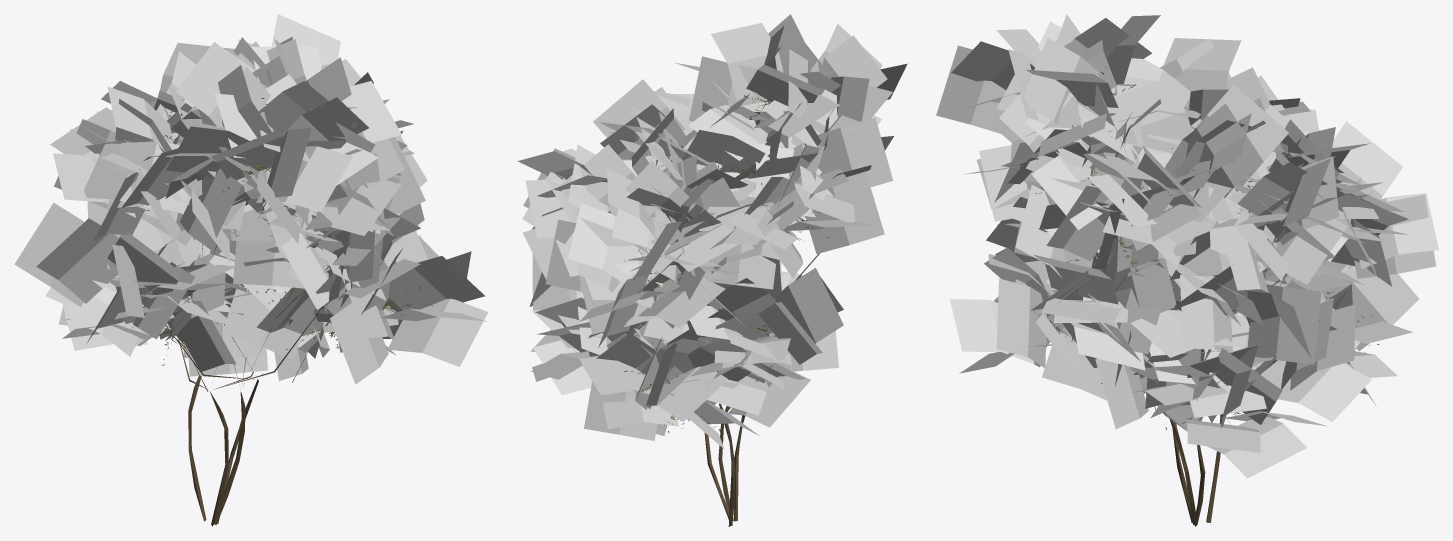
File: Bruyere_Dense_LOD1.fbx
3 views of the same model, side by side, from view 1: azimuth 30°, elevation 25°; view 2: azimuth 150°, elevation 25°; view 3: azimuth 270°, elevation 25° (orthographic). The views are drawn at different scales.
Parts seen in each view (by area): view 1: Bruyere_Dense_LOD1; view 2: Bruyere_Dense_LOD1; view 3: Bruyere_Dense_LOD1.
Boxes of the visible parts, x1=… form: Bruyere_Dense_LOD1: x1=14, y1=14, x2=488, y2=526; Bruyere_Dense_LOD1: x1=517, y1=14, x2=907, y2=526; Bruyere_Dense_LOD1: x1=936, y1=14, x2=1438, y2=526.
Bounding box in the file's own units: 251 × 343 × 311.
